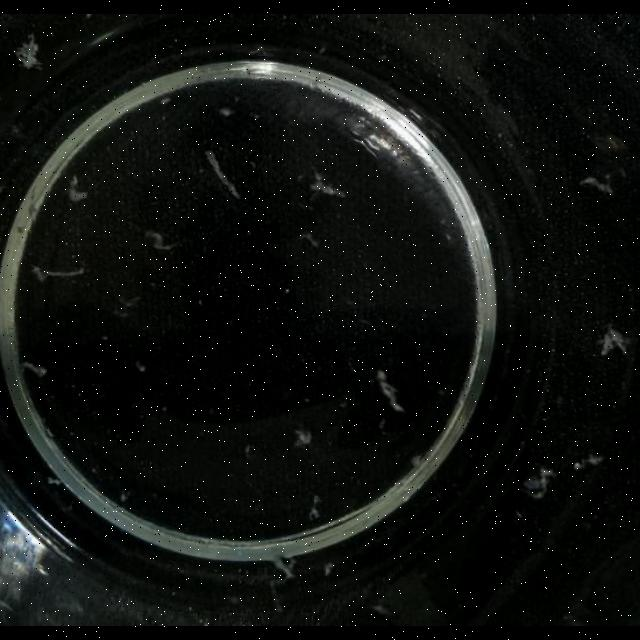Fibre: (204, 150, 242, 198), (374, 370, 406, 412), (308, 170, 346, 202), (13, 33, 43, 71), (30, 263, 86, 283), (522, 468, 556, 500), (112, 293, 144, 319), (144, 230, 180, 252), (580, 174, 614, 196), (270, 556, 298, 580), (68, 175, 90, 203), (297, 232, 321, 250), (293, 428, 313, 449), (22, 361, 48, 377), (308, 496, 322, 520), (410, 452, 426, 470), (371, 604, 391, 616), (59, 14, 92, 20), (244, 444, 256, 460), (47, 476, 63, 486), (119, 490, 131, 502), (135, 360, 147, 372)
microbeads: (598, 325, 630, 357), (576, 454, 604, 472), (218, 106, 234, 118), (324, 562, 334, 576)
